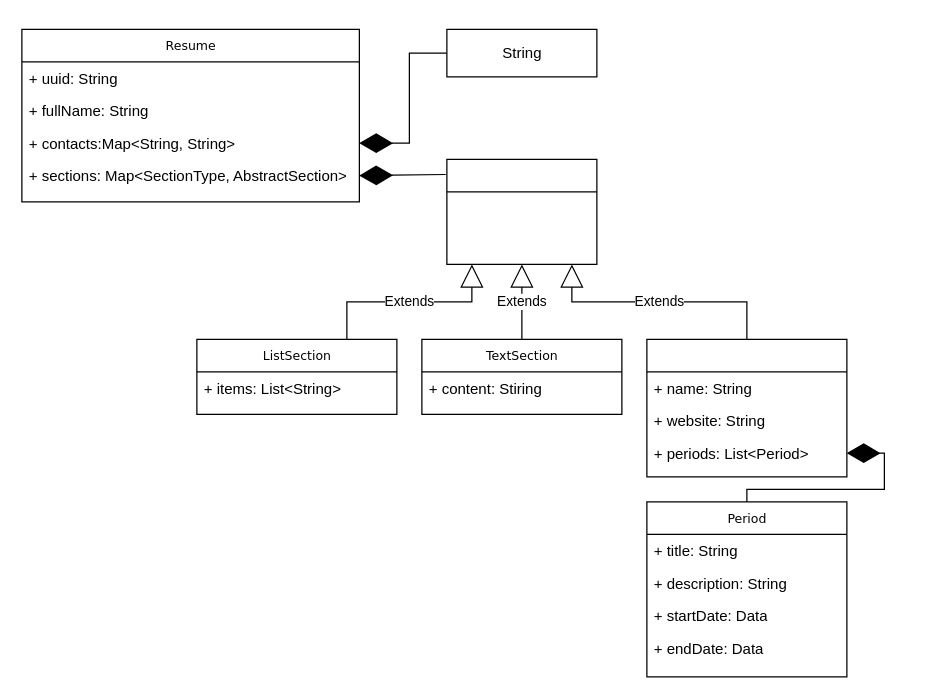
This 939x699 diagram has some shape labels left out. The box of each missing label's shape, as (x1, y1, x2, y2) in pixels:
AbstractSection: (446, 158, 597, 264)
OrganizationSection: (646, 338, 847, 477)
